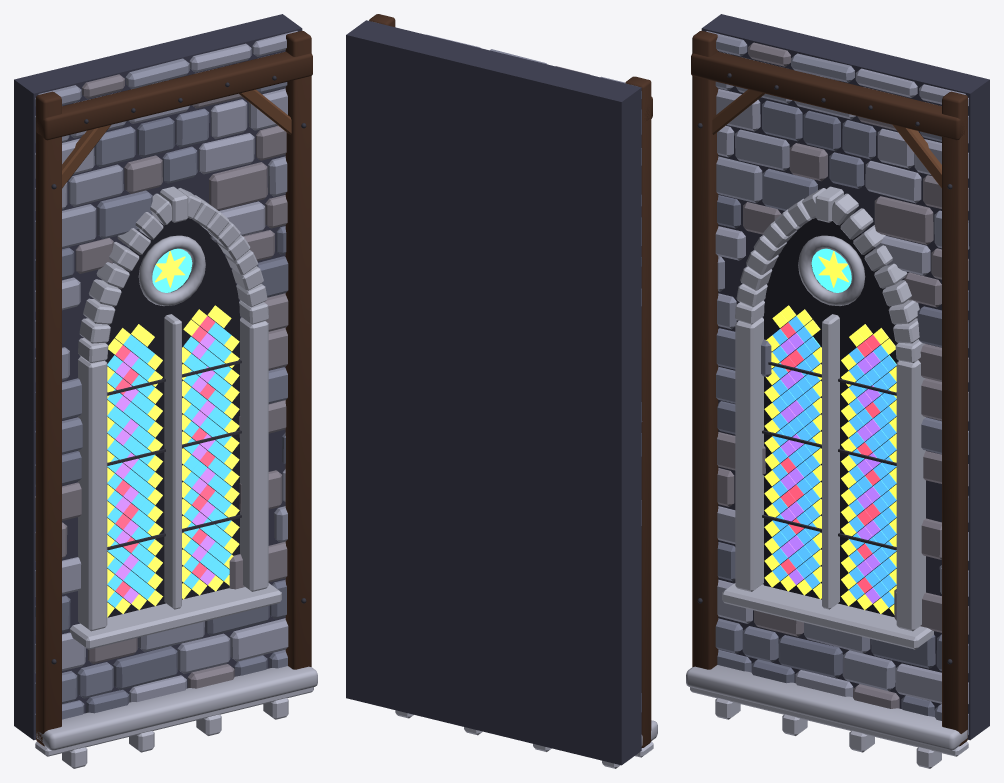
File: magic_wall_upper.glb
3 renders of one model, left to right at view 1: azimuth 30°, elevation 25°; view 2: azimuth 150°, elevation 25°; view 3: azimuth 330°, elevation 25°, orthographic. The views are drawn at different scales.
Parts seen in each view (by area): view 1: magic_wall_upper; view 2: magic_wall_upper; view 3: magic_wall_upper.
Part boxes in pixels (x1=…): magic_wall_upper: x1=14, y1=14, x2=317, y2=768; magic_wall_upper: x1=346, y1=14, x2=657, y2=768; magic_wall_upper: x1=686, y1=14, x2=989, y2=768.
Bounding box in the file's own units: 2 × 4.79 × 0.4779.
